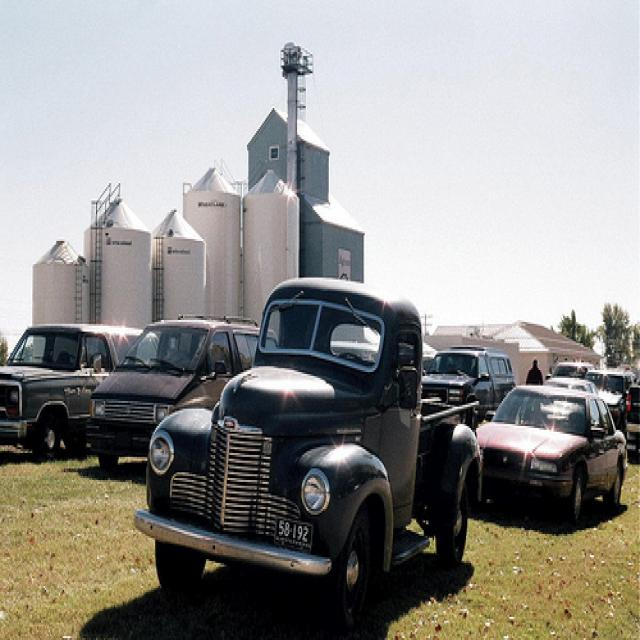Car: (141, 270, 487, 609), (93, 307, 269, 479), (0, 312, 156, 461), (472, 383, 629, 531), (417, 343, 519, 414)
